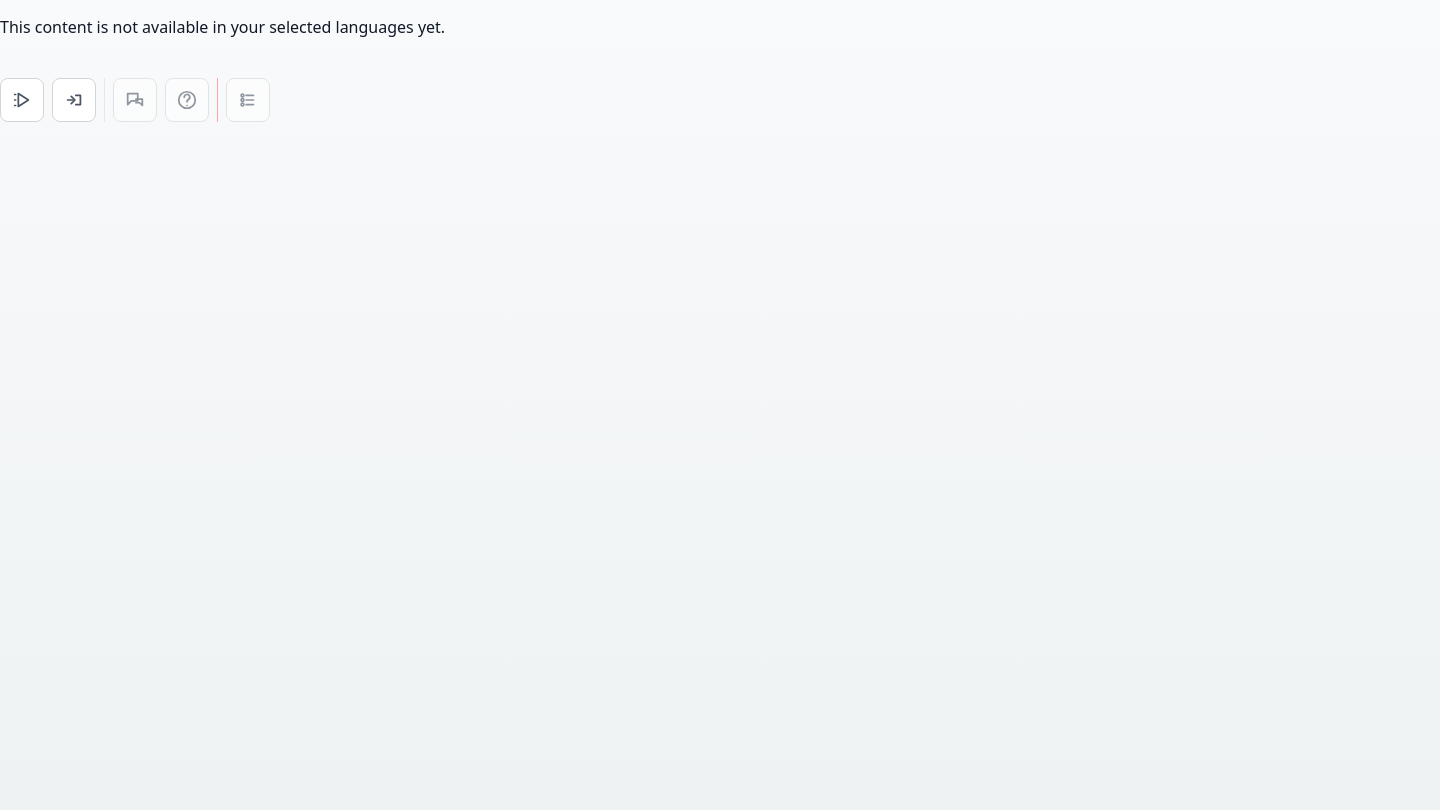
it: reports missing translations without substituting another language
Click the button named "Open strategies": (22, 100) x1=0 y1=78 x2=44 y2=122
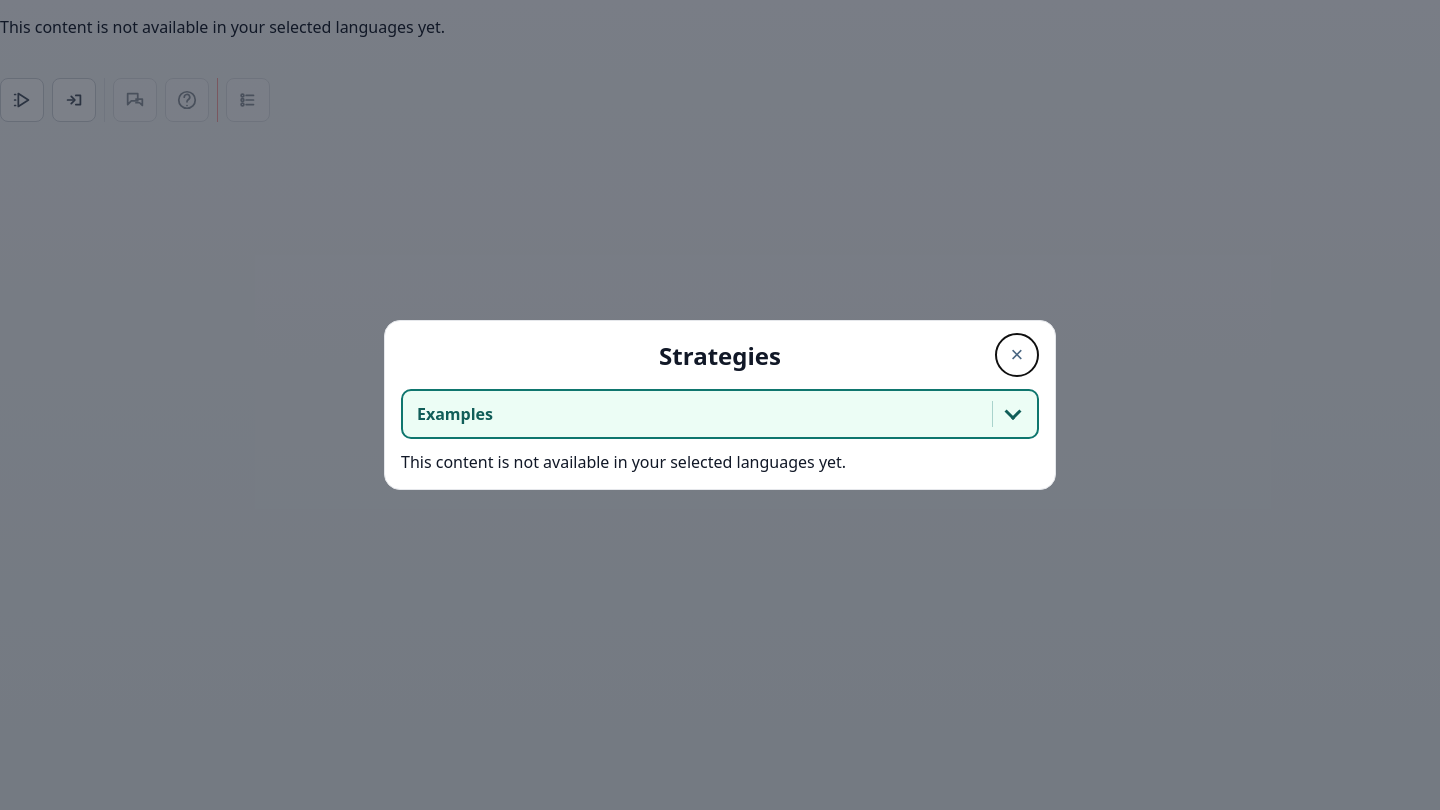
Check: the message "This content is not available in your selected languages yet." below "Strategies" is shown, box x1=401 y1=451 x2=846 y2=473
